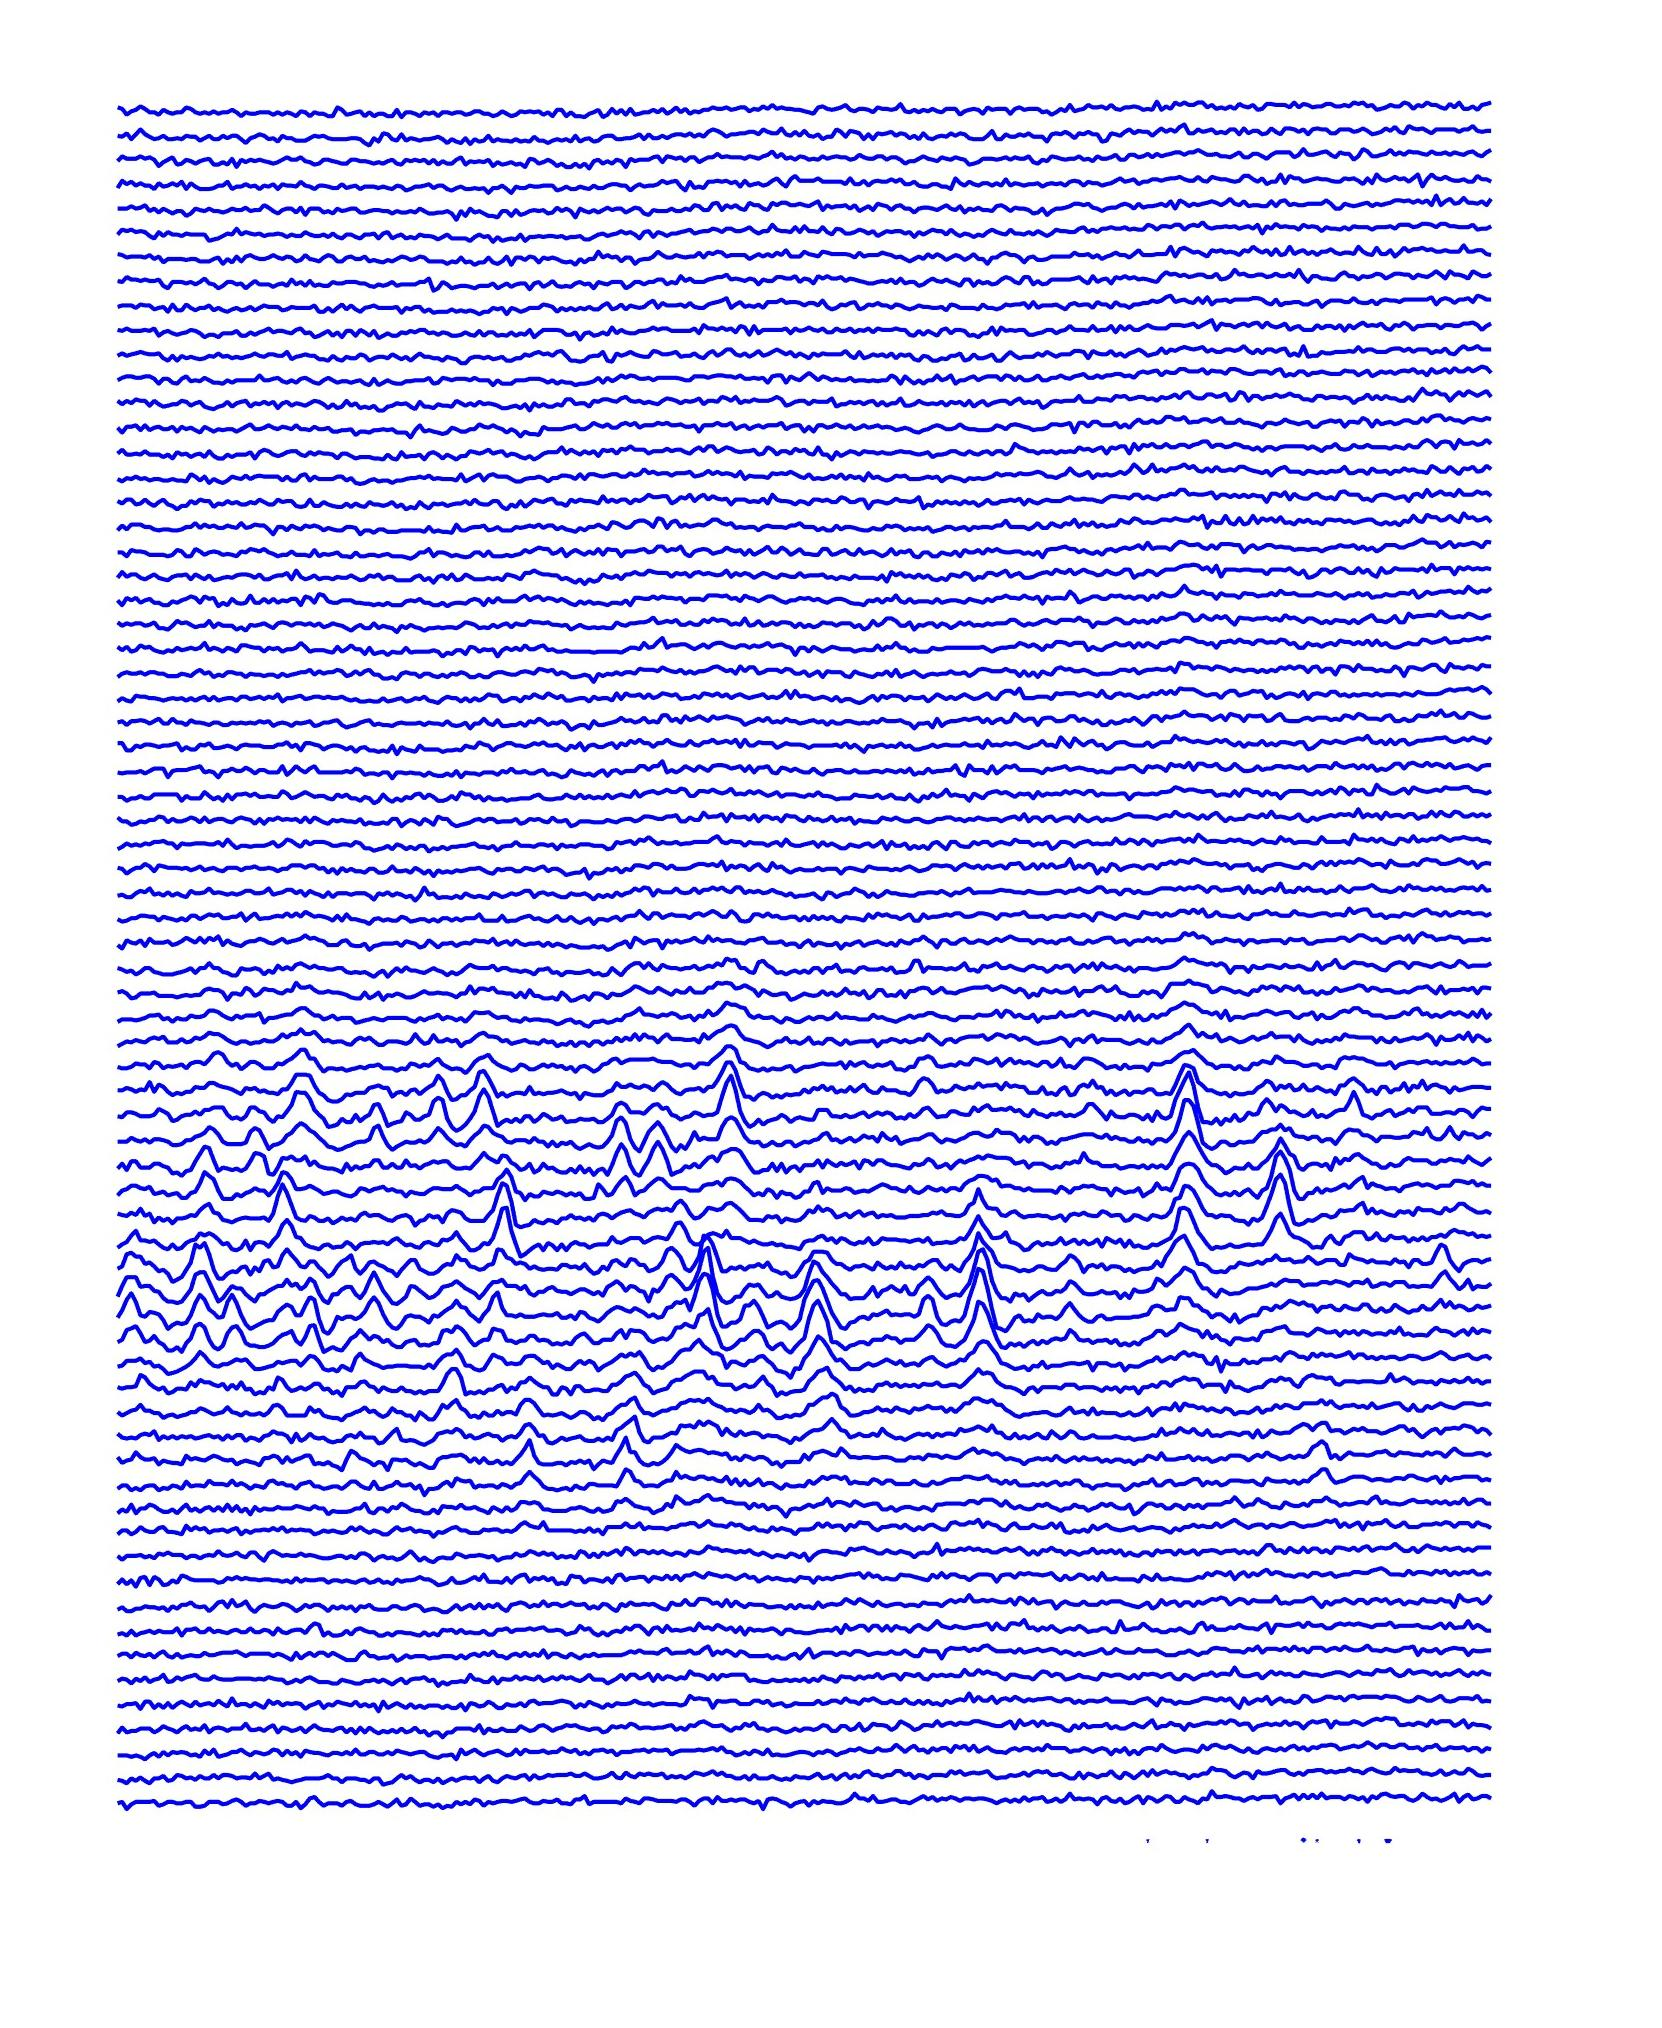defect: (1148, 1031, 1308, 1290), (125, 1231, 413, 1359), (163, 1122, 320, 1225), (918, 1182, 1004, 1366), (778, 1241, 850, 1442), (276, 1054, 394, 1159), (669, 1218, 743, 1381), (463, 1155, 534, 1295), (594, 1378, 657, 1531), (574, 1098, 672, 1196), (434, 1029, 525, 1123), (707, 1027, 759, 1159), (1413, 1219, 1470, 1321), (428, 1310, 477, 1423), (1293, 1412, 1349, 1501), (500, 1386, 542, 1492)
